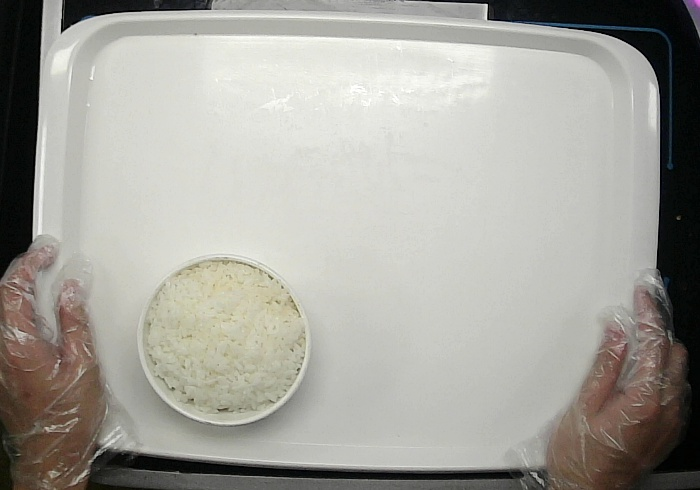HZYJPL-Fan_Wan: (136, 251, 311, 427)
